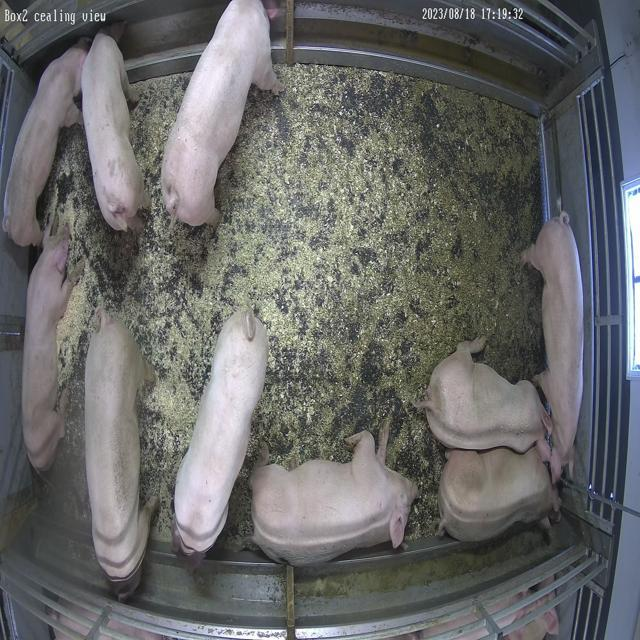Pig: (161, 0, 283, 226), (2, 40, 87, 246), (81, 32, 144, 230), (21, 231, 70, 472)
